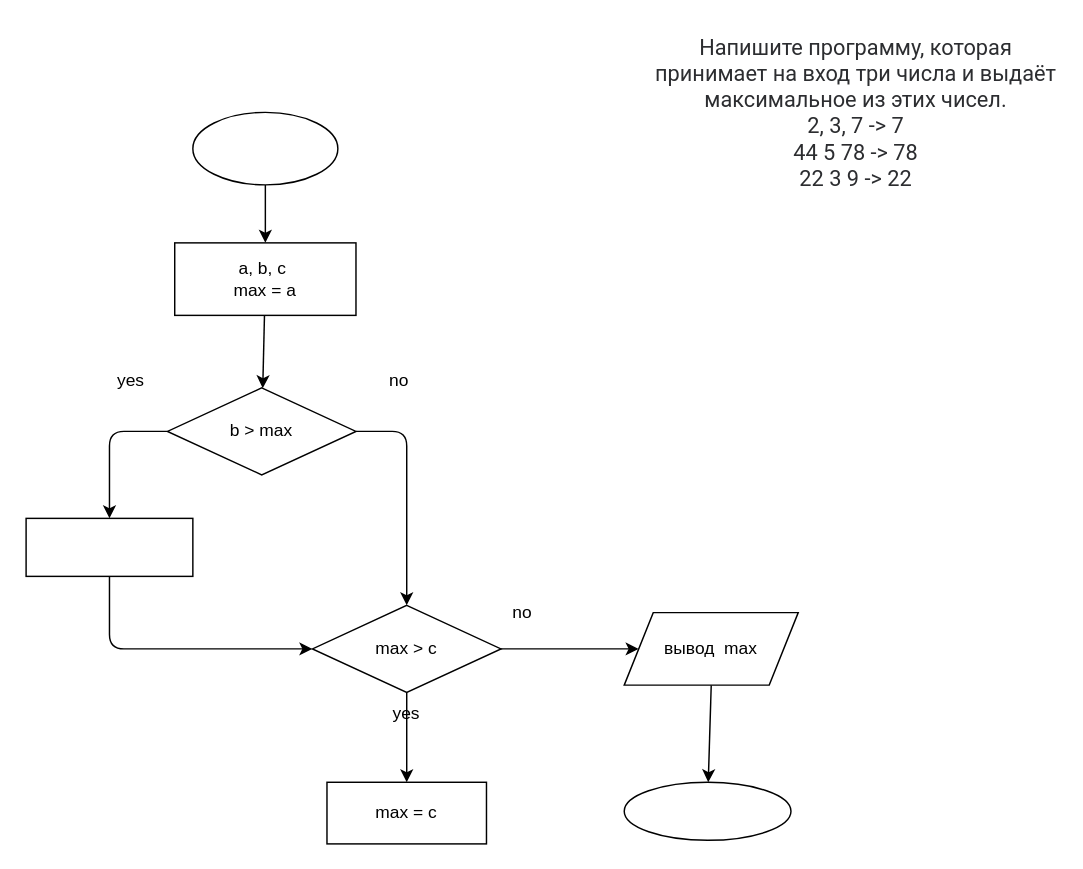
Image size: 1083x869. Some labels were removed from this diagram. Each missing label, with the centre of its shape:
"max = b" goes at (109,546).
"Start" goes at (264,148).
"Stop" goes at (707,810).
